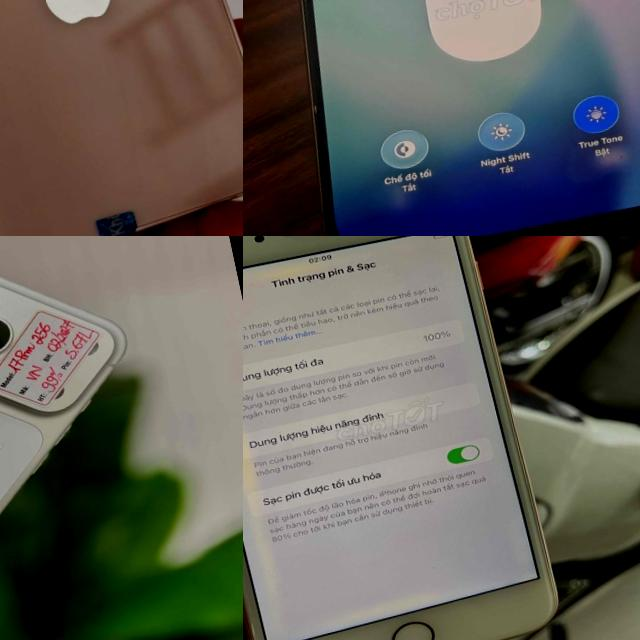gen_12_13: (0, 0, 243, 236)
gen_16: (299, 0, 640, 236)
gen_17: (0, 236, 188, 640)
gen_7_8: (243, 236, 557, 640)
